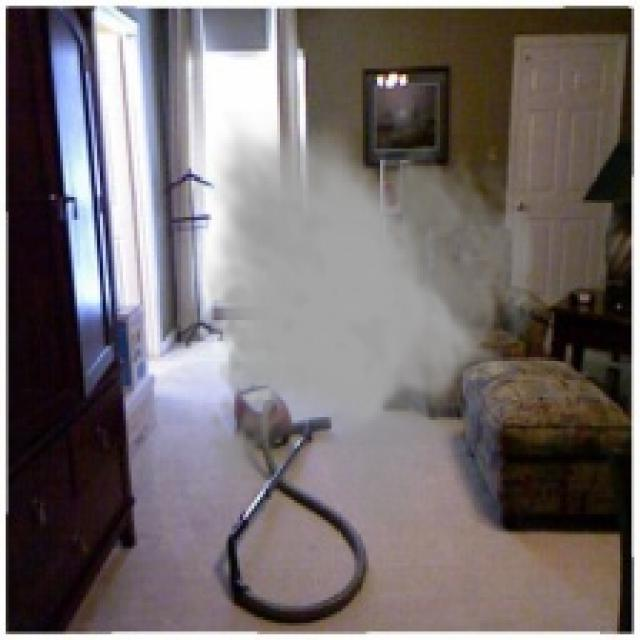Smoke: (197, 111, 540, 526)
